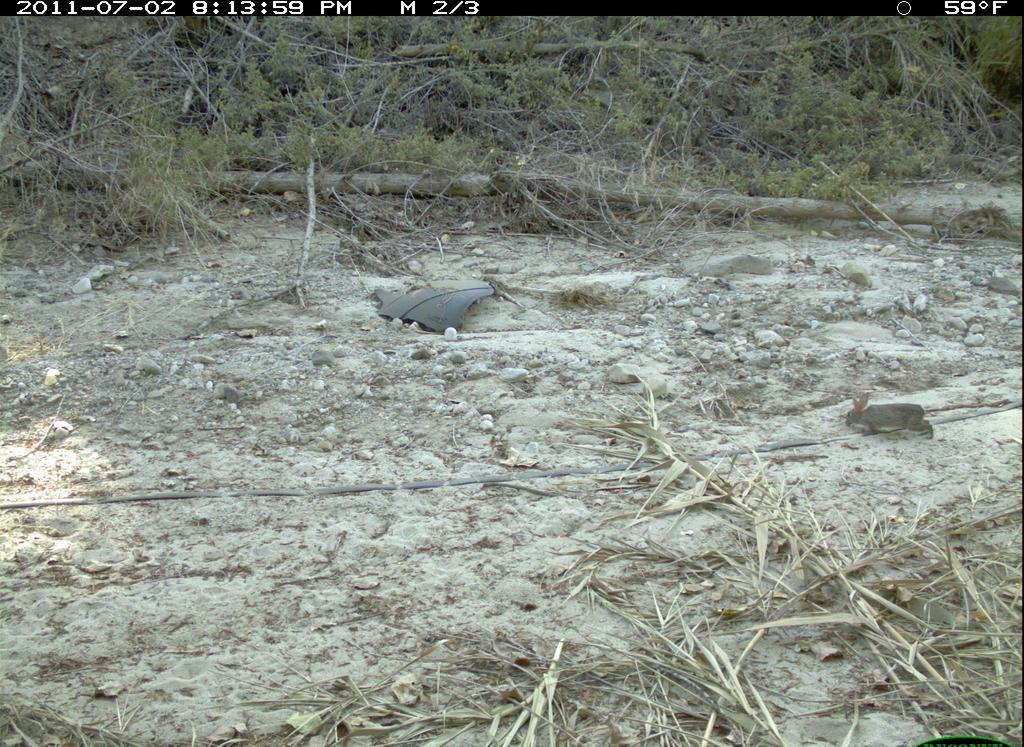rabbit: (831, 375, 946, 452)
